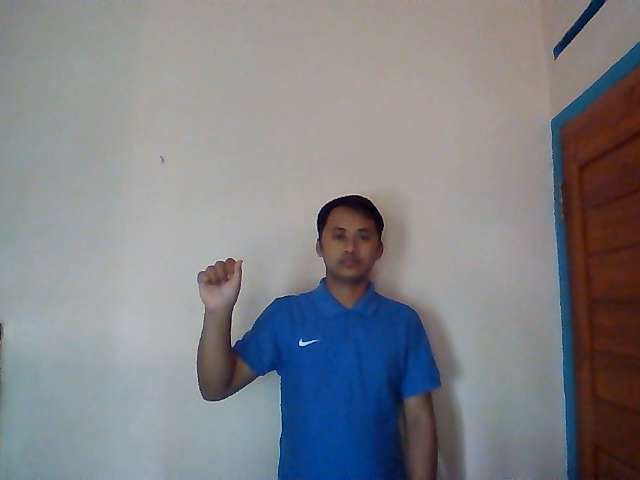A: (197, 254, 243, 309)
